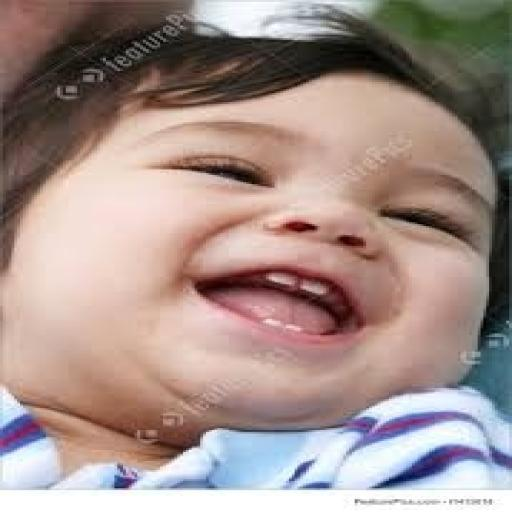laughing: (0, 2, 509, 483)
